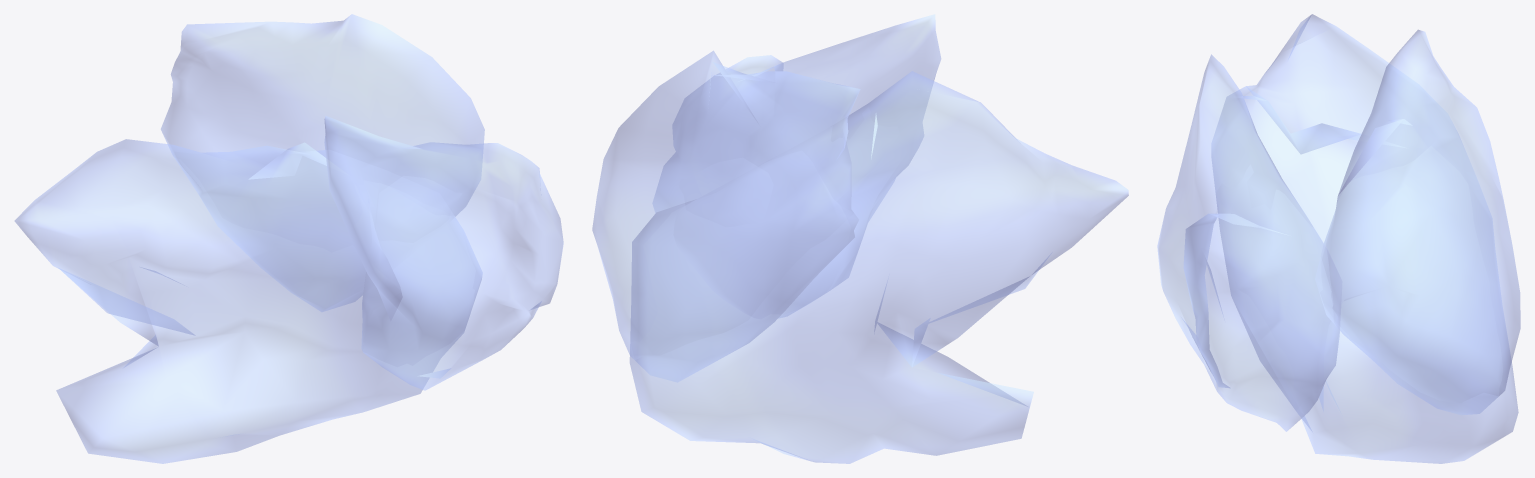
3 renders of one model, left to right at view 1: azimuth 30°, elevation 25°; view 2: azimuth 150°, elevation 25°; view 3: azimuth 270°, elevation 25°, orthographic. The views are drawn at different scales.
Visible parts, largest first — view 1: SM_RoughRock03_low; view 2: SM_RoughRock03_low; view 3: SM_RoughRock03_low.
Part boxes in pixels (bbox=[...]): SM_RoughRock03_low: bbox=[14, 14, 563, 463]; SM_RoughRock03_low: bbox=[592, 14, 1128, 463]; SM_RoughRock03_low: bbox=[1157, 14, 1520, 463].
Bounding box in the file's own units: 2.52 × 1.94 × 1.67.
